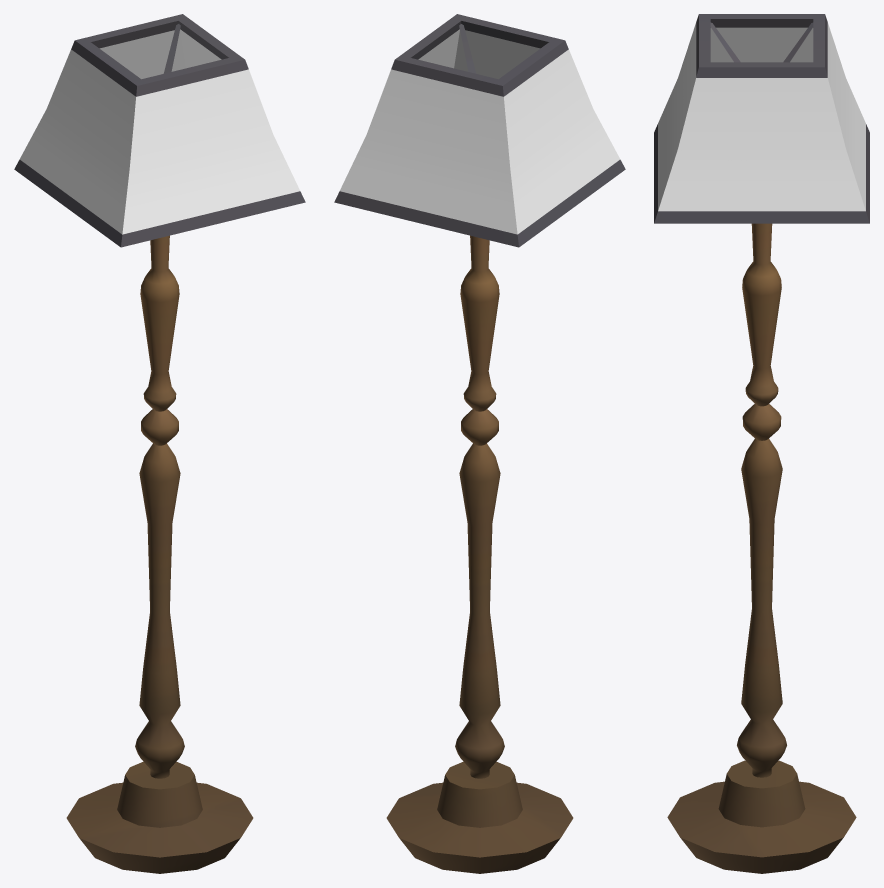
The model's file is SM_Prop_FloorLamp_02.obj.
3 renders of one model, left to right at view 1: azimuth 30°, elevation 25°; view 2: azimuth 150°, elevation 25°; view 3: azimuth 270°, elevation 25°, orthographic.
Visible parts, largest first — view 1: SM_Prop_FloorLamp_02_Mat_Glow_FloorLamp_Inst, SM_Prop_FloorLamp_02_Mat_SwatchOverlay_Farm_01_Wood_Inst, SM_Prop_FloorLamp_02_Mat_SwatchOverlay_Farm_01_Inst; view 2: SM_Prop_FloorLamp_02_Mat_Glow_FloorLamp_Inst, SM_Prop_FloorLamp_02_Mat_SwatchOverlay_Farm_01_Wood_Inst, SM_Prop_FloorLamp_02_Mat_SwatchOverlay_Farm_01_Inst; view 3: SM_Prop_FloorLamp_02_Mat_Glow_FloorLamp_Inst, SM_Prop_FloorLamp_02_Mat_SwatchOverlay_Farm_01_Wood_Inst, SM_Prop_FloorLamp_02_Mat_SwatchOverlay_Farm_01_Inst.
Boxes of the visible parts, x1=… form: SM_Prop_FloorLamp_02_Mat_Glow_FloorLamp_Inst: x1=19, y1=29, x2=299, y2=234; SM_Prop_FloorLamp_02_Mat_SwatchOverlay_Farm_01_Wood_Inst: x1=66, y1=235, x2=253, y2=873; SM_Prop_FloorLamp_02_Mat_SwatchOverlay_Farm_01_Inst: x1=14, y1=14, x2=305, y2=247; SM_Prop_FloorLamp_02_Mat_Glow_FloorLamp_Inst: x1=340, y1=29, x2=620, y2=234; SM_Prop_FloorLamp_02_Mat_SwatchOverlay_Farm_01_Wood_Inst: x1=386, y1=235, x2=573, y2=873; SM_Prop_FloorLamp_02_Mat_SwatchOverlay_Farm_01_Inst: x1=334, y1=14, x2=625, y2=247; SM_Prop_FloorLamp_02_Mat_Glow_FloorLamp_Inst: x1=658, y1=22, x2=865, y2=211; SM_Prop_FloorLamp_02_Mat_SwatchOverlay_Farm_01_Wood_Inst: x1=667, y1=223, x2=856, y2=873; SM_Prop_FloorLamp_02_Mat_SwatchOverlay_Farm_01_Inst: x1=654, y1=14, x2=869, y2=223.
Size of the model in its own units: 0.4671 by 1.91 by 0.4671.
3 materials, 2 textured.
